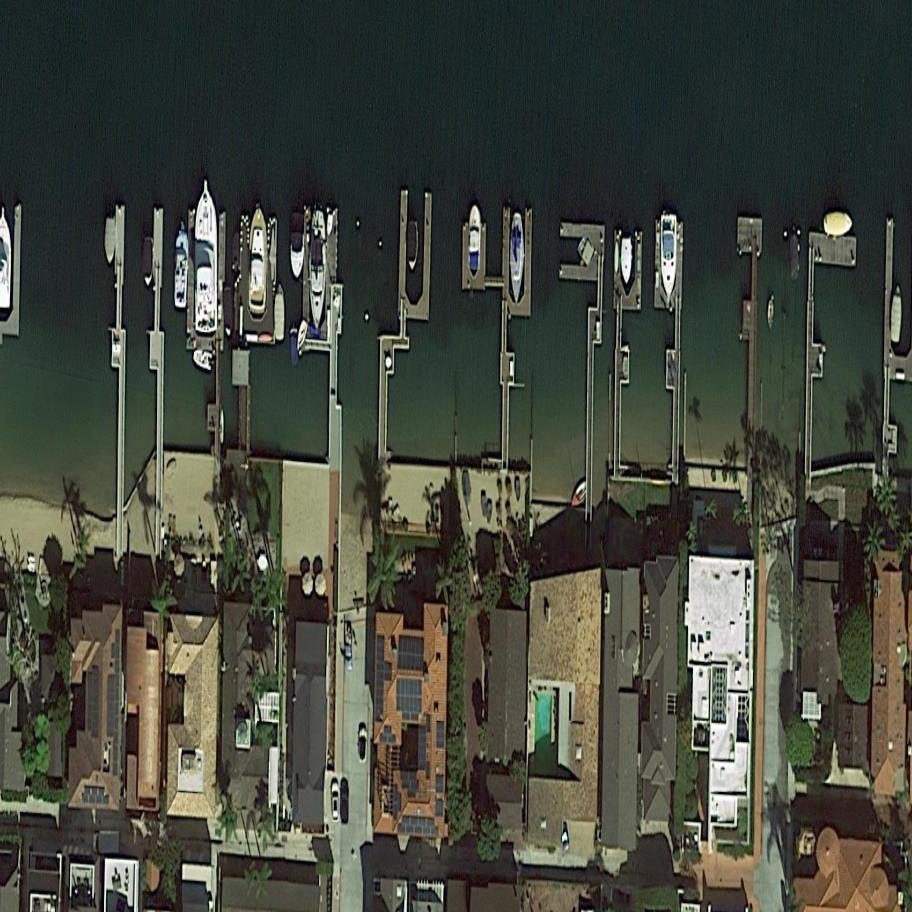ship: (193, 178, 218, 332), (308, 209, 327, 333), (248, 204, 268, 315), (660, 213, 677, 301), (564, 472, 599, 514), (509, 212, 524, 304), (174, 222, 189, 309), (289, 211, 306, 281), (467, 204, 482, 271), (291, 314, 313, 356), (889, 284, 903, 345), (824, 211, 854, 238), (191, 341, 216, 373), (103, 217, 118, 267), (274, 283, 286, 341), (407, 220, 420, 272), (620, 238, 633, 285), (789, 232, 801, 282), (223, 287, 234, 339), (143, 237, 154, 287), (289, 323, 299, 365), (767, 297, 775, 330)
small-vehicle: (343, 622, 355, 674), (340, 782, 350, 825), (330, 781, 340, 824), (358, 724, 367, 765)
